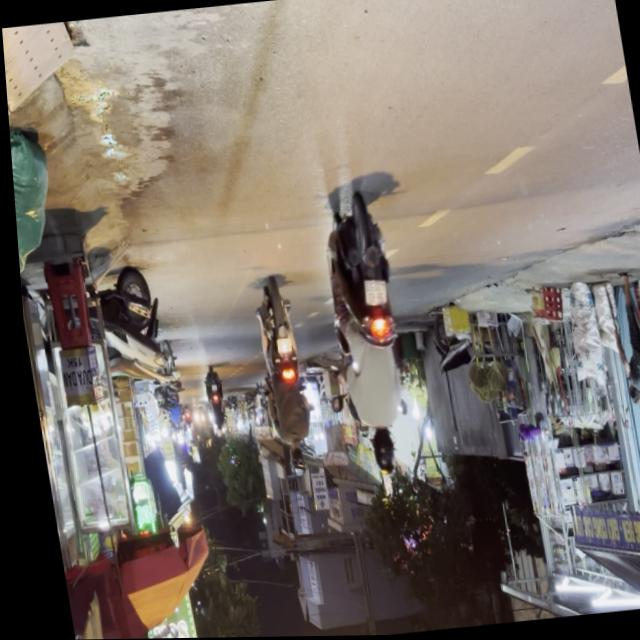helmet: (362, 428, 392, 474), (280, 445, 301, 479)
licenseplate: (307, 188, 418, 478), (242, 280, 315, 481)
nohelmet: (358, 280, 383, 308), (270, 338, 286, 355)
